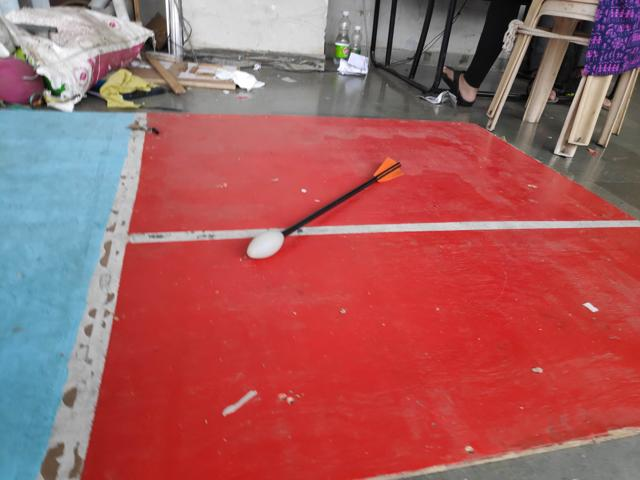Head: (244, 230, 288, 262)
Tail: (370, 154, 408, 185)
